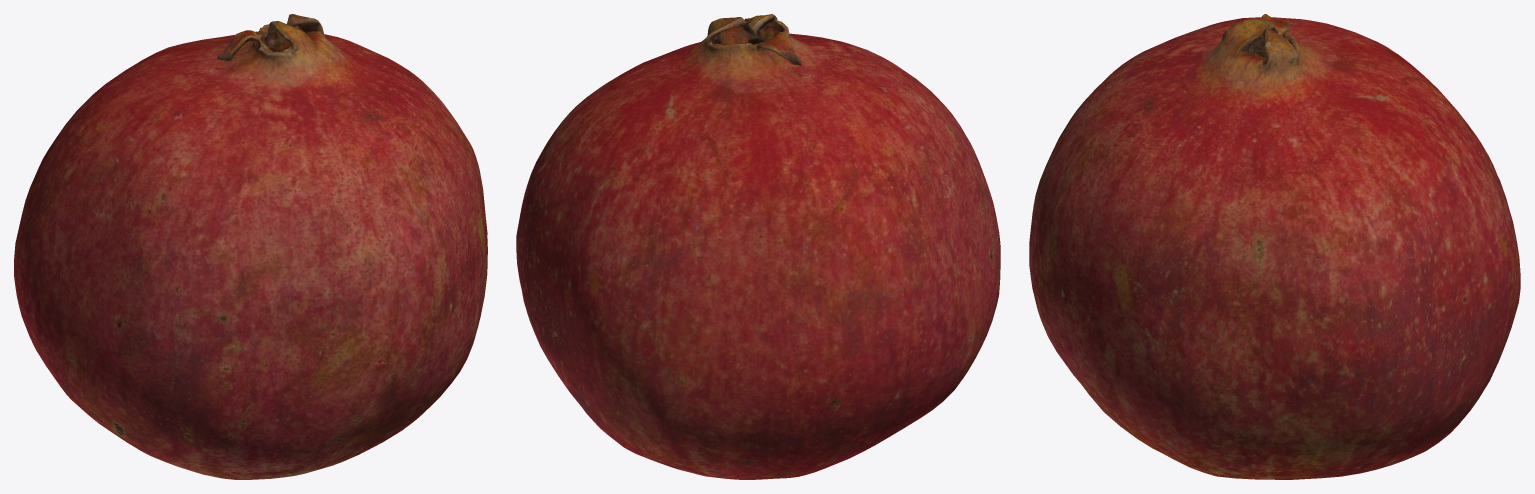
File: food_pomegranate_01.glb
3 views of the same model, side by side, from view 1: azimuth 30°, elevation 25°; view 2: azimuth 150°, elevation 25°; view 3: azimuth 270°, elevation 25° (orthographic). The views are drawn at different scales.
Parts seen in each view (by area): view 1: food_pomegranate_01_mesh; view 2: food_pomegranate_01_mesh; view 3: food_pomegranate_01_mesh.
Part boxes in pixels (x1,y1,x2,y2): food_pomegranate_01_mesh: (14, 14, 487, 479); food_pomegranate_01_mesh: (516, 14, 1000, 479); food_pomegranate_01_mesh: (1029, 14, 1520, 479).
Size of the model in its own units: 0.1143 by 0.115 by 0.1154.
1 material, 1 textured.
